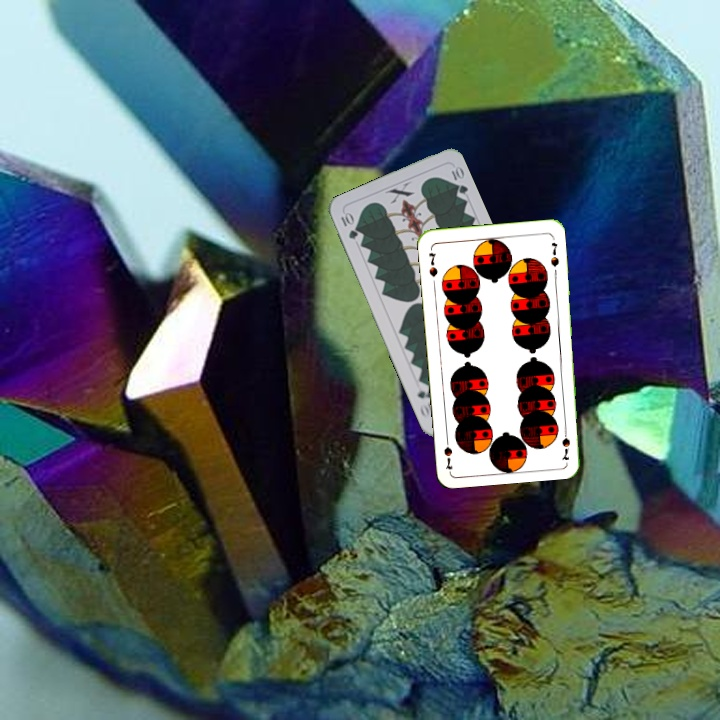G10: (337, 208, 360, 242)
S7: (558, 422, 573, 462), (424, 248, 440, 279)
